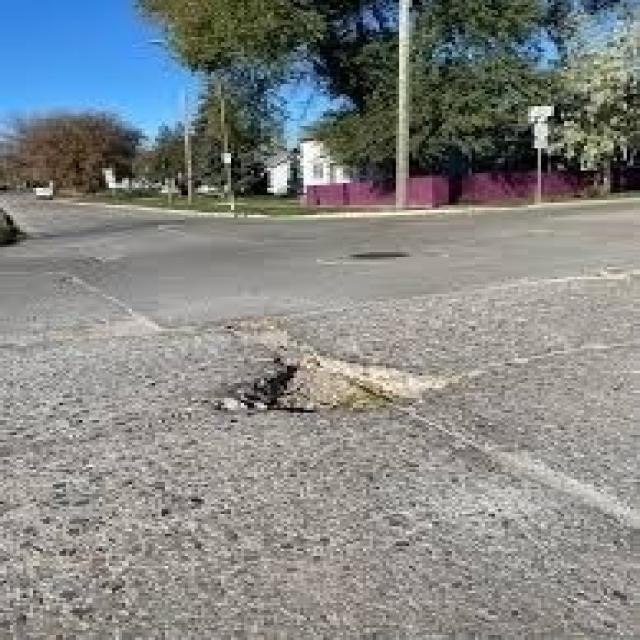road-pothole: (226, 322, 456, 417)
